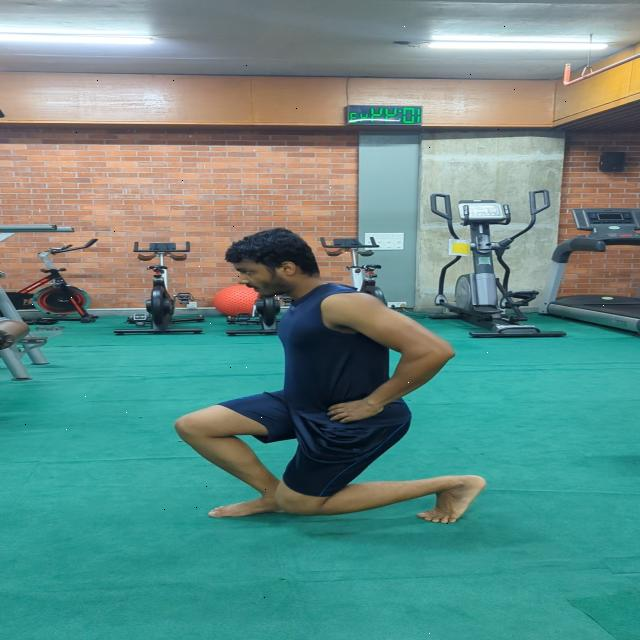Normal_Lunges: (165, 225, 499, 531)
